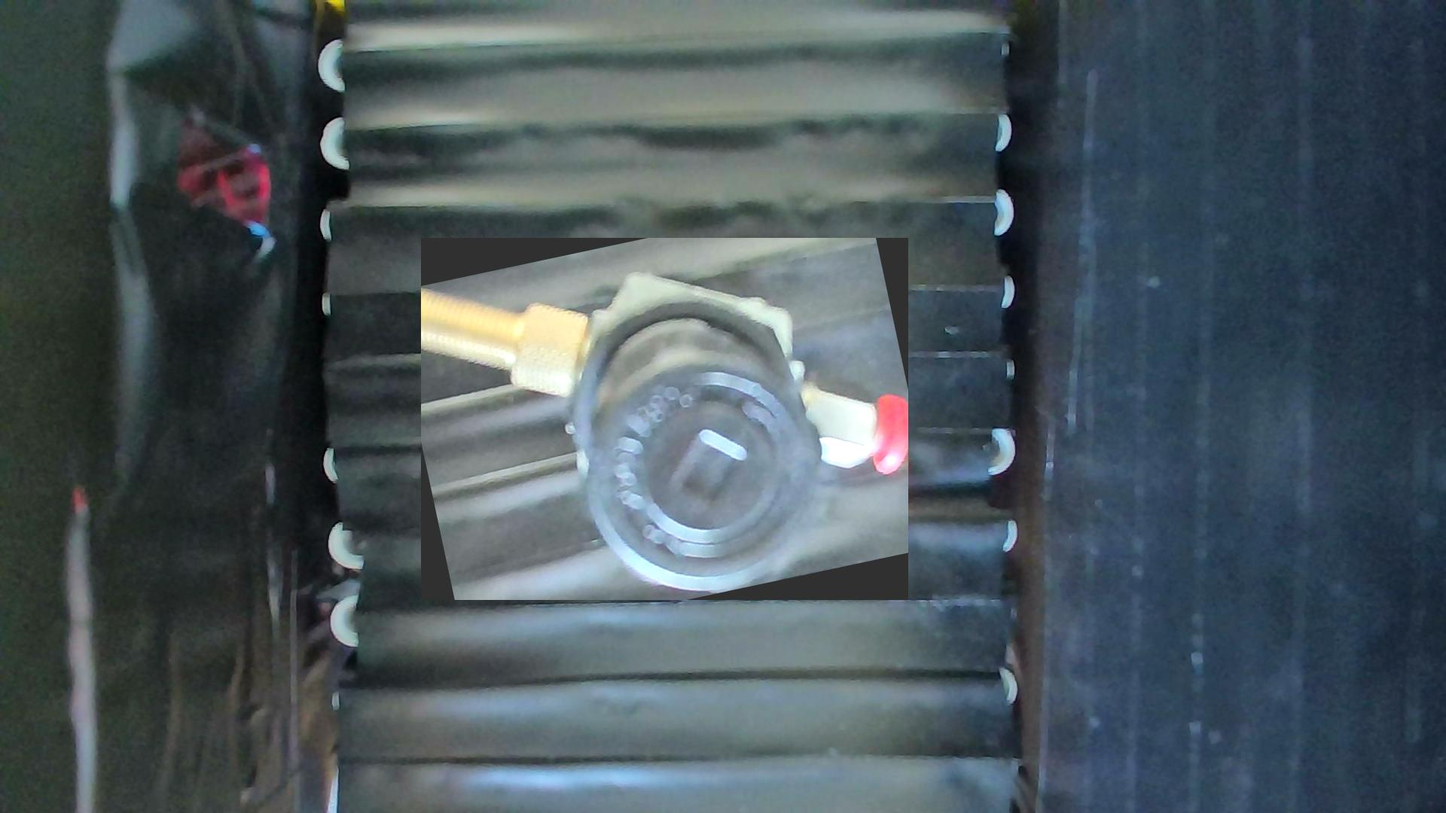regulator: (421, 238, 909, 600)
